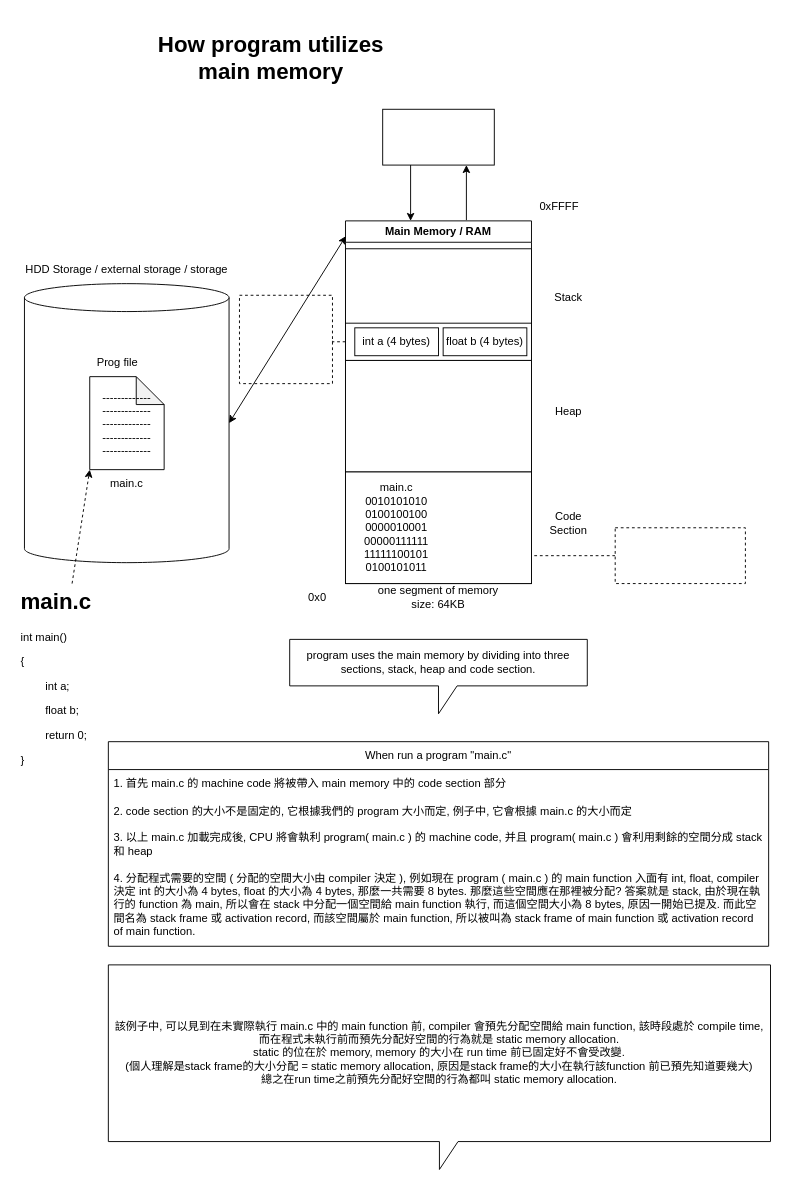
Image size: 787x1186. Some labels were removed from this diagram. Here are the shapes that lost their labels. From the top down, the centre of each, then its label:
[438,136]: CPU
[285,339]: stack frame of main function
[679,555]: program resides here
